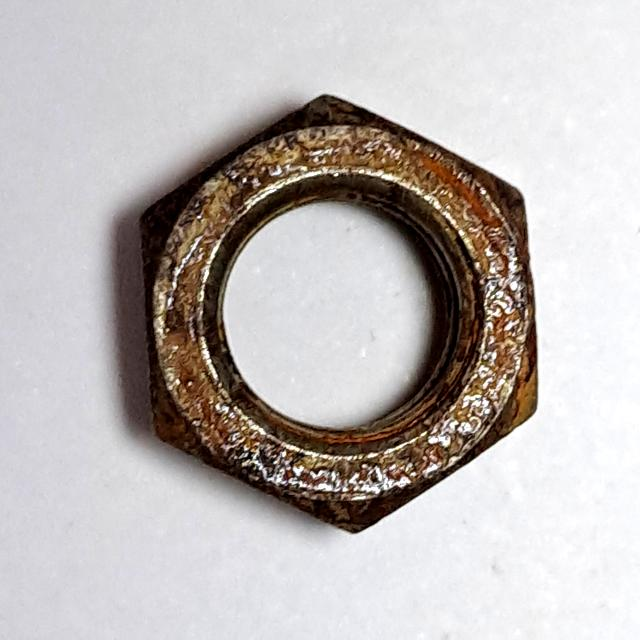Rust: (126, 85, 564, 550)
